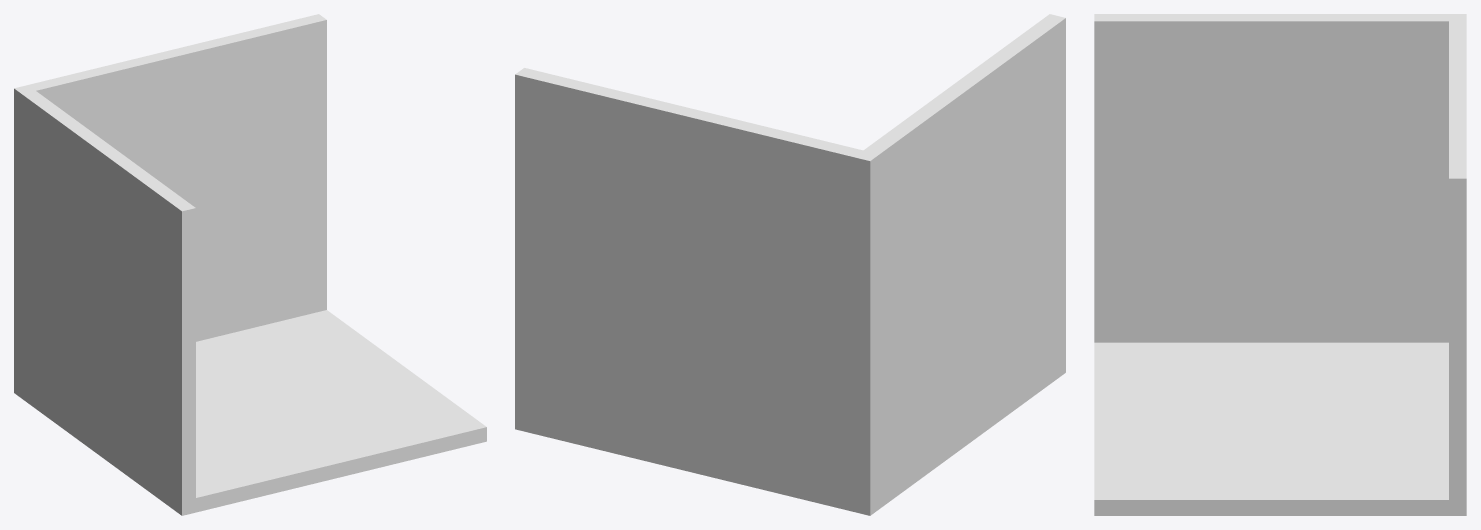
File: room_white.glb
3 renders of one model, left to right at view 1: azimuth 30°, elevation 25°; view 2: azimuth 150°, elevation 25°; view 3: azimuth 270°, elevation 25°, orthographic. The views are drawn at different scales.
Visible parts, largest first — view 1: wall, wall002, Object001; view 2: wall002, wall; view 3: wall, Object001, wall002.
Part boxes in pixels (x1,y1,x2,y2): wall: (14, 85, 195, 515); wall002: (28, 14, 326, 341); Object001: (196, 310, 486, 512); wall002: (515, 68, 862, 511); wall: (854, 14, 1065, 515); wall: (1094, 14, 1466, 342); Object001: (1094, 342, 1466, 515); wall002: (1449, 21, 1466, 499).
Size of the model in its own units: 0.44 by 0.42 by 0.42.
1 material, 1 textured.
